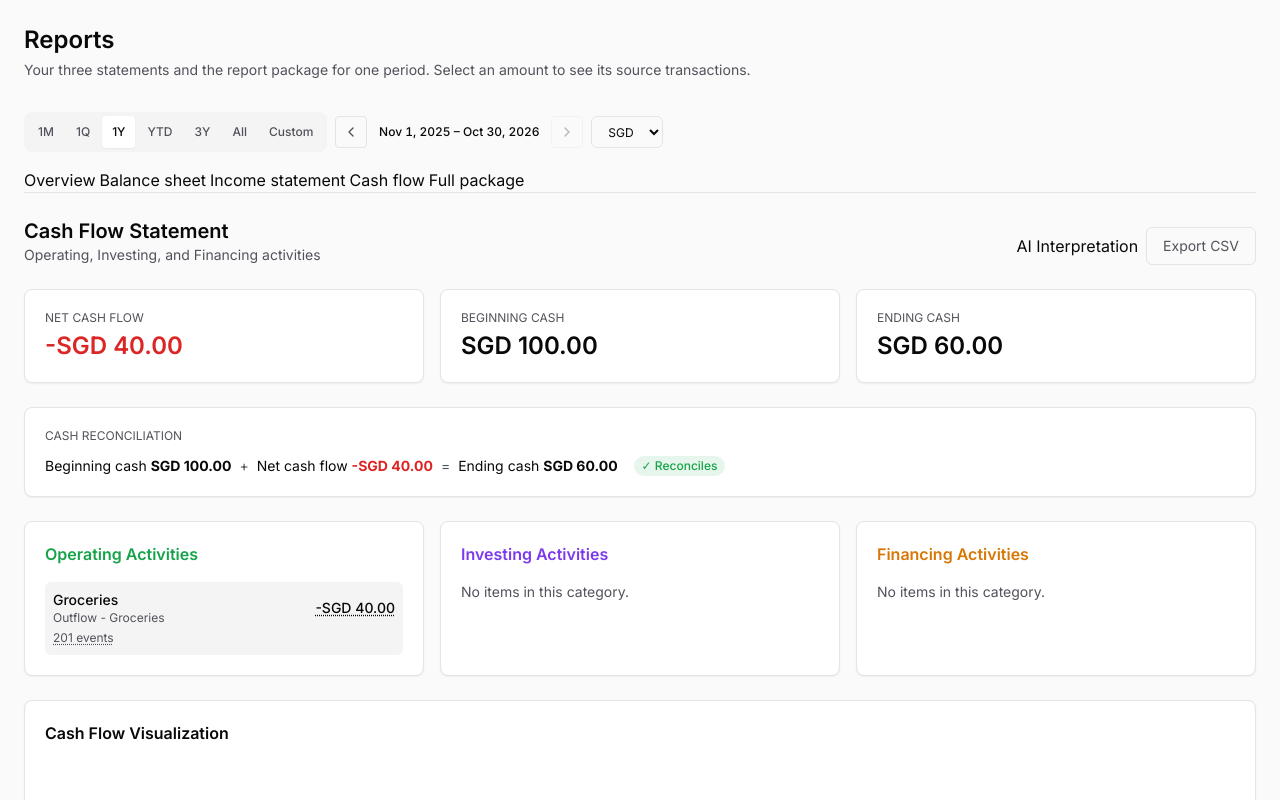
Test: CashFlowPage › keeps the loaded events of a line visible when a later page fails
Click the button with aria-label "201 events for Outflow - Groceries". click: (83, 638)
box: [53, 630, 114, 646]
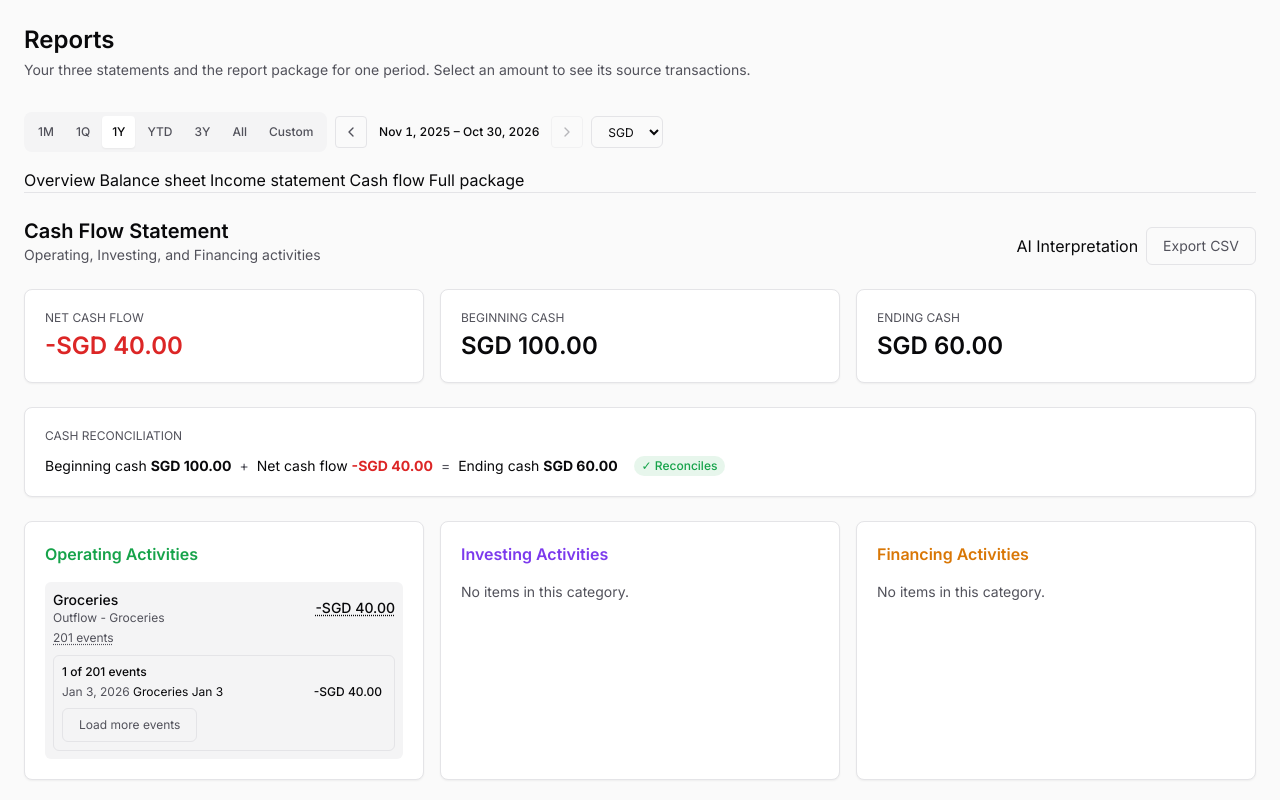
Expected: the text "Groceries Jan 3" is shown, [133, 684, 223, 699]
Click the button "Load more events". click: (130, 725)
box: [62, 708, 198, 742]
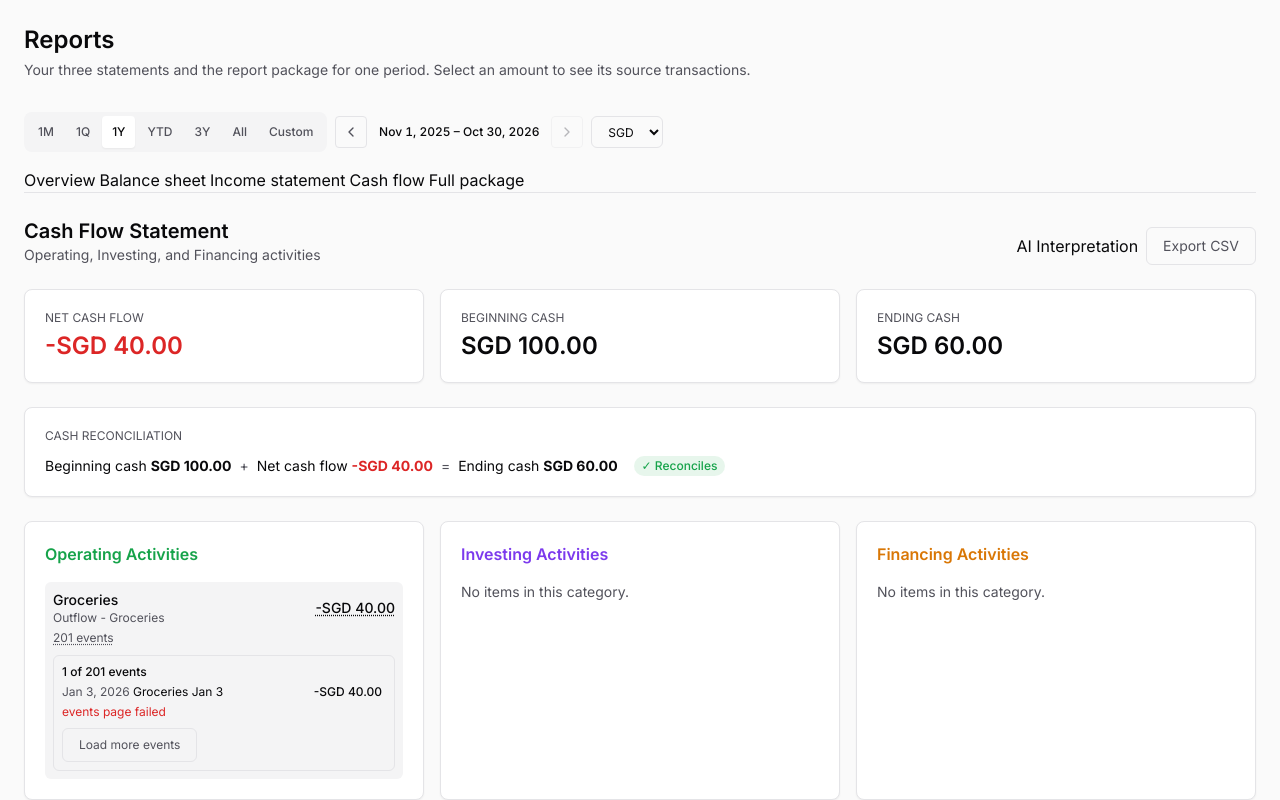
Expected: the text "Groceries Jan 3" is shown, [133, 684, 223, 699]
Expected: the text "events page failed" is shown, [62, 704, 166, 719]
